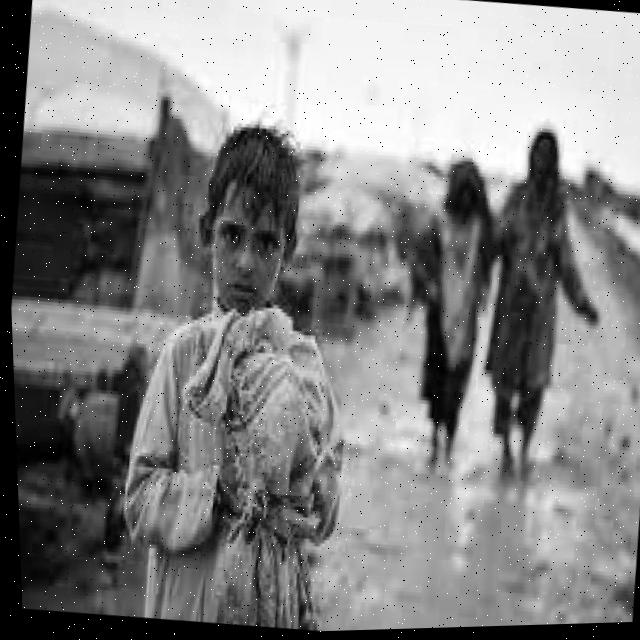civilian: (100, 88, 386, 637), (457, 110, 600, 485), (387, 152, 512, 474)
